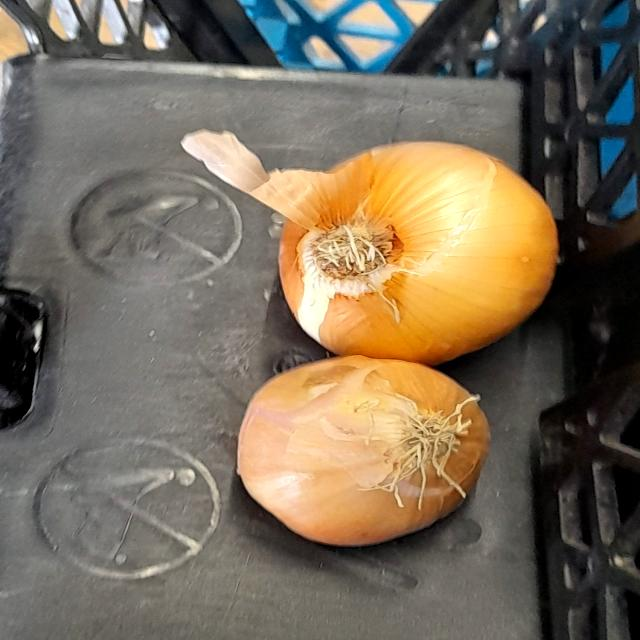onion: (242, 124, 576, 370), (215, 324, 518, 546)
